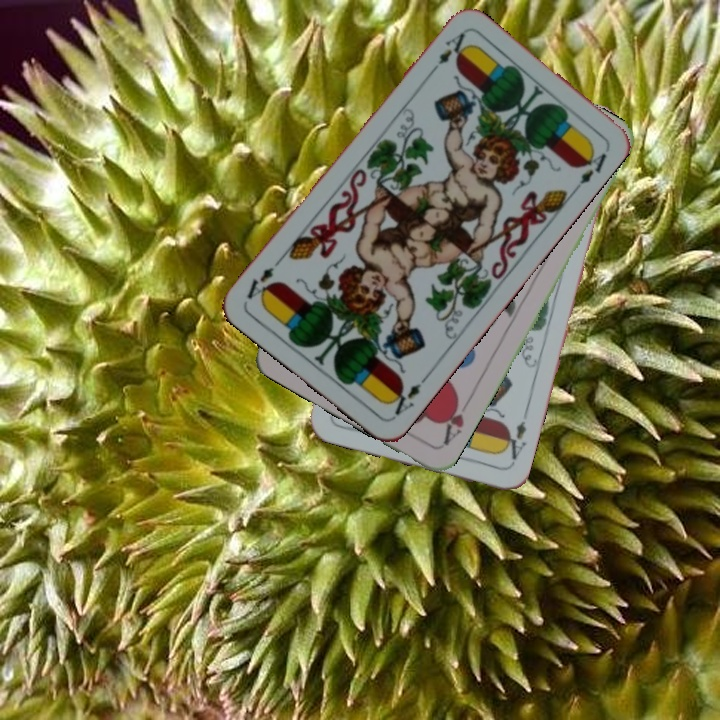EA: (383, 371, 431, 421), (425, 28, 468, 78), (498, 417, 529, 467)
HA: (438, 391, 467, 449)
